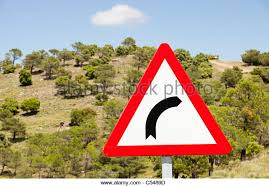Bend_to_right: (101, 42, 235, 158)
